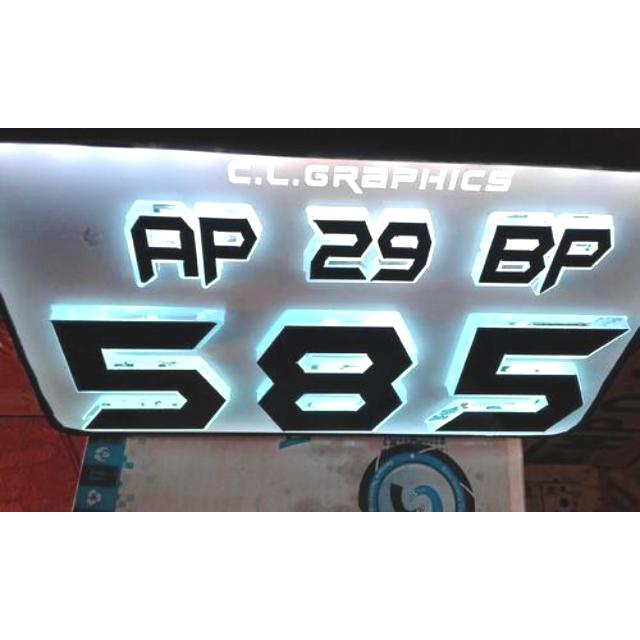plate: (9, 148, 631, 456)
